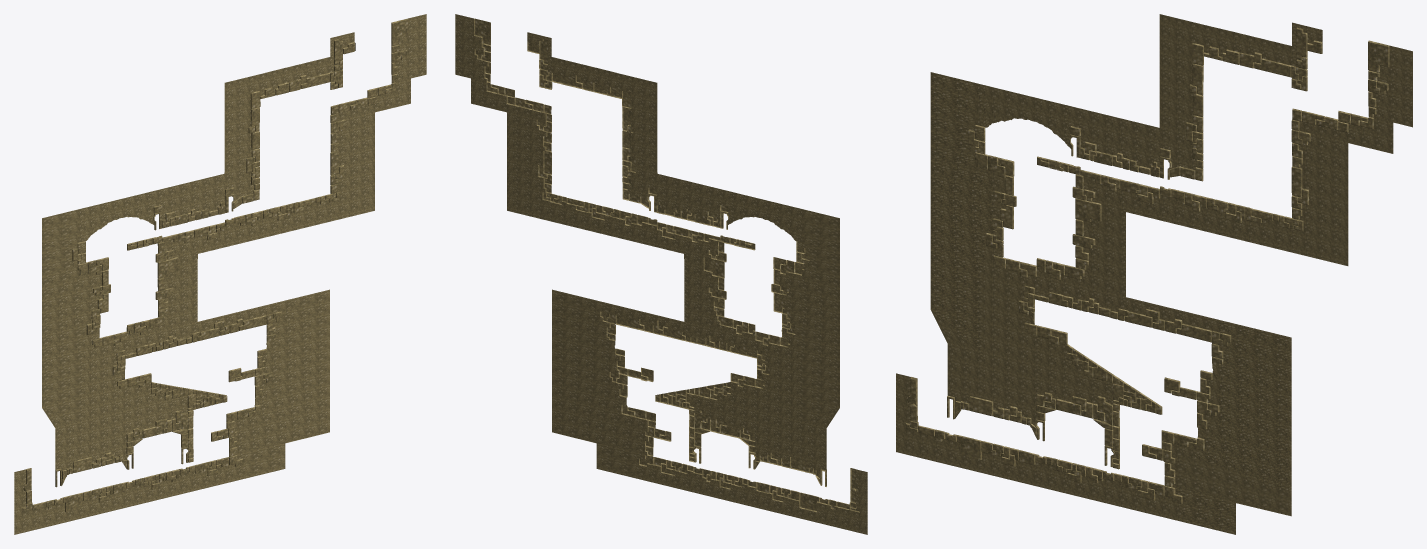
The model's file is underground_Wii_bake.dae.
The picture shows the model from 3 angles, left to right: view 1: azimuth 30°, elevation 25°; view 2: azimuth 150°, elevation 25°; view 3: azimuth 330°, elevation 25°; orthographic projection. The views are drawn at different scales.
Visible parts, largest first — view 1: m0; view 2: m0; view 3: m0.
Boxes of the visible parts, <box> form: m0: <box>14,14,426,534</box>; m0: <box>455,14,867,534</box>; m0: <box>896,14,1412,534</box>.
Size of the model in its own units: 34457 by 33568 by 187.
Materials: 2 (2 with a texture image).
